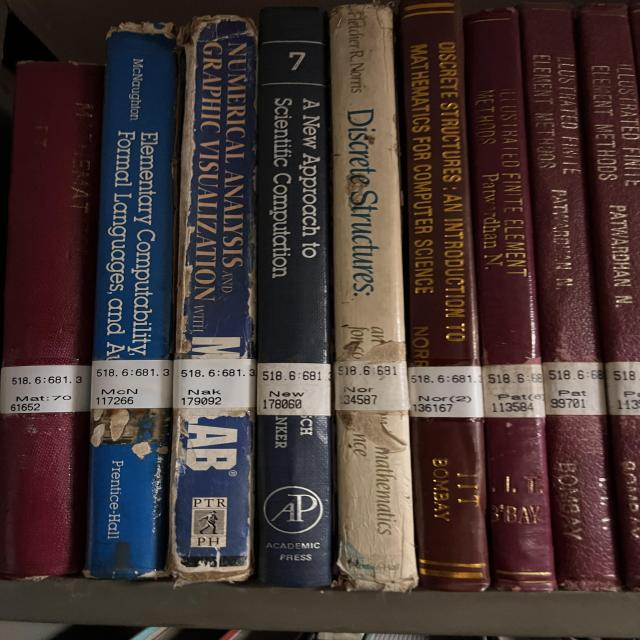Book: (520, 4, 620, 590), (465, 9, 557, 591), (0, 61, 103, 579), (400, 0, 490, 591), (85, 24, 178, 579), (330, 5, 418, 590), (168, 15, 257, 581), (257, 8, 332, 588), (578, 5, 640, 590)
Label: (0, 365, 92, 414), (173, 359, 255, 409), (90, 360, 173, 409), (257, 362, 332, 416), (408, 366, 483, 418), (335, 361, 410, 411), (542, 362, 607, 415), (482, 364, 545, 418), (605, 361, 640, 415)
